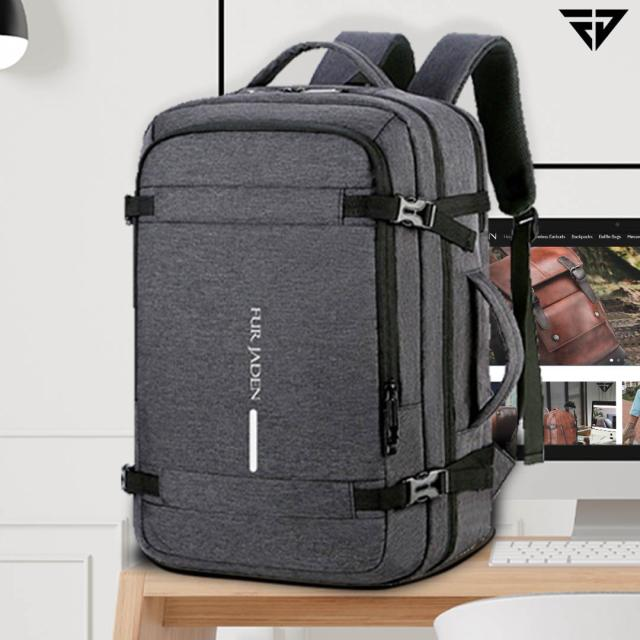backpack: (122, 31, 544, 590)
